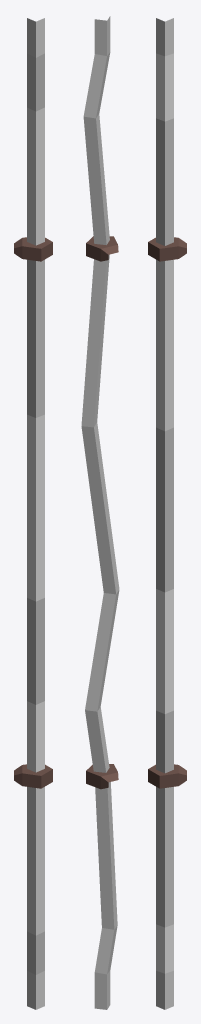
The model's file is SM_Wall_Cable_Vertical_C.gltf.
The picture shows the model from 3 angles, left to right: view 1: azimuth 90°, elevation 25°; view 2: azimuth 210°, elevation 25°; view 3: azimuth 270°, elevation 25°; orthographic projection.
Visible parts, largest first — view 1: SM_Wall_Cable_Vertical_C; view 2: SM_Wall_Cable_Vertical_C; view 3: SM_Wall_Cable_Vertical_C.
Boxes of the visible parts, x1,y1,x2,y2 form: SM_Wall_Cable_Vertical_C: (14, 18, 52, 1009); SM_Wall_Cable_Vertical_C: (81, 16, 119, 1009); SM_Wall_Cable_Vertical_C: (148, 18, 186, 1009).
Size of the model in its own units: 0.1207 by 3 by 0.107.
Materials: 2 (1 with a texture image).
